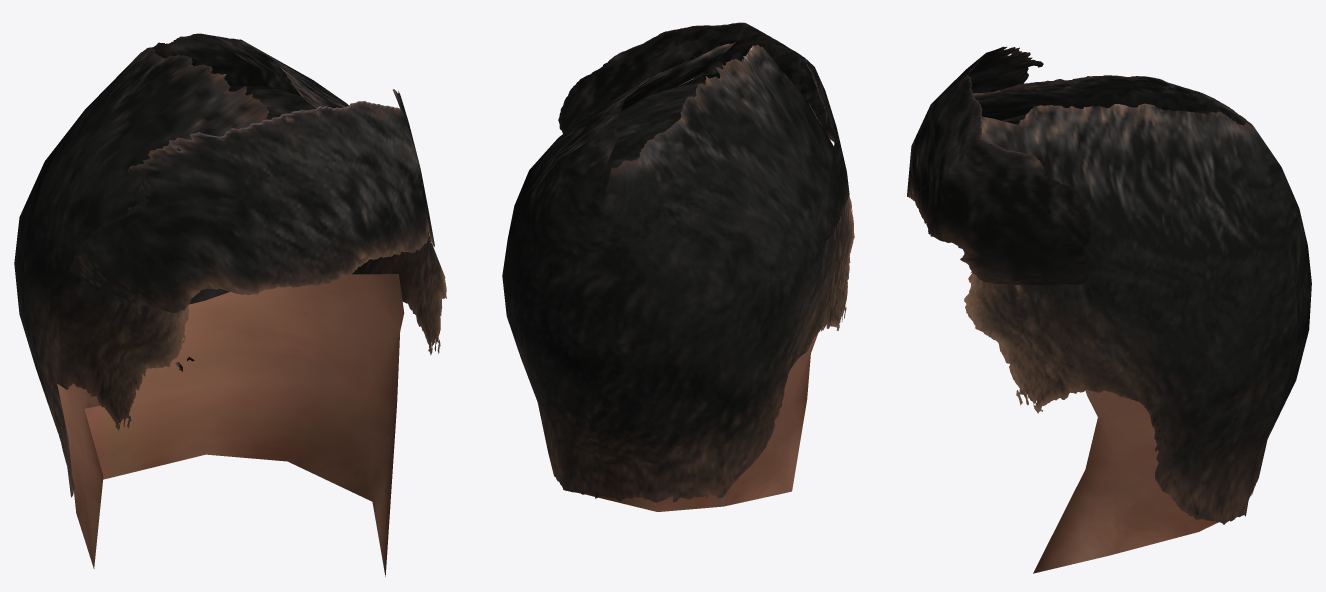
Rendered from esp-rodri.glb.
3 renders of one model, left to right at view 1: azimuth 30°, elevation 25°; view 2: azimuth 150°, elevation 25°; view 3: azimuth 270°, elevation 25°, orthographic. The views are drawn at different scales.
Visible parts, largest first — view 1: hair; view 2: hair; view 3: hair.
Part boxes in pixels (x1,y1,x2,y2): hair: [14, 33, 446, 576]; hair: [502, 22, 854, 511]; hair: [907, 46, 1311, 573].
Size of the model in its own units: 0.1502 by 0.2356 by 0.179.
2 materials, 2 textured.
